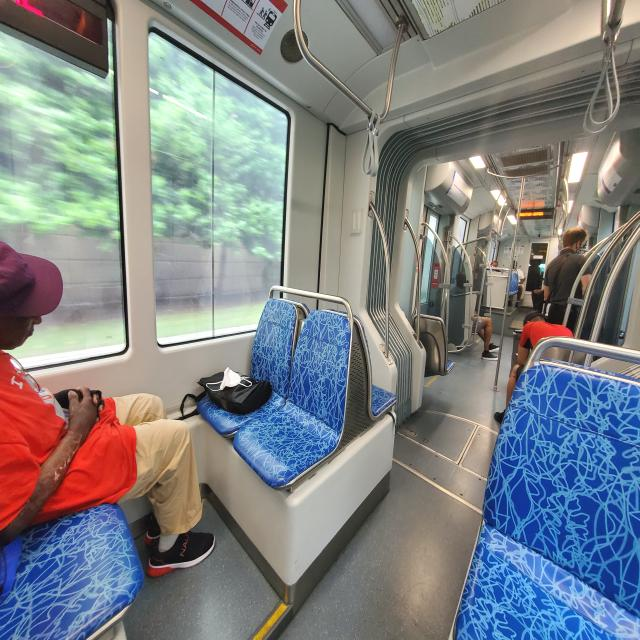asiento-libre: (453, 360, 640, 640), (463, 357, 640, 636), (232, 308, 352, 489), (233, 309, 351, 487), (0, 495, 143, 638), (197, 297, 298, 438), (329, 309, 396, 451), (418, 312, 449, 381), (371, 383, 397, 417)
